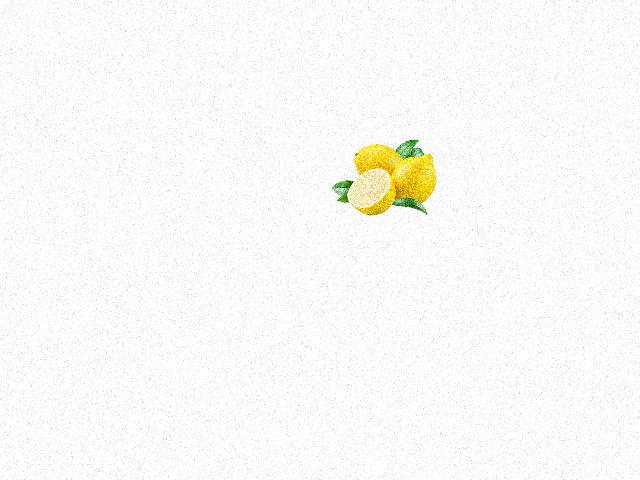lemon: (388, 147, 439, 209)
